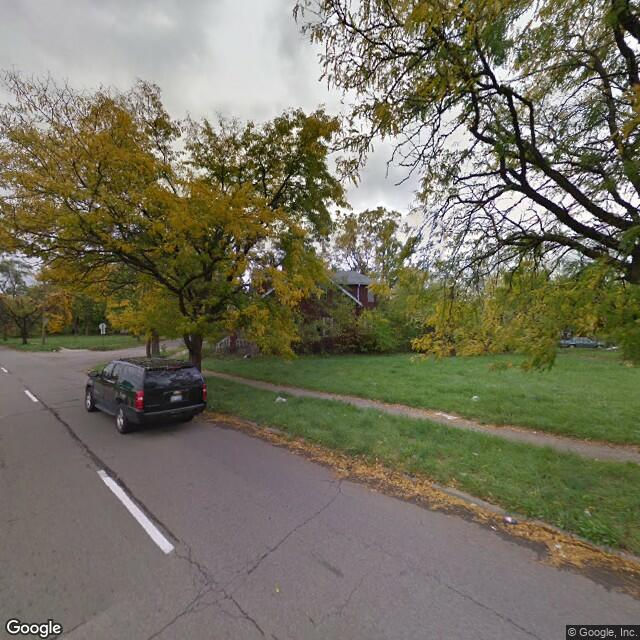litter: (435, 410, 460, 421), (274, 391, 286, 403), (502, 512, 513, 523), (470, 392, 479, 400), (492, 525, 495, 531)
